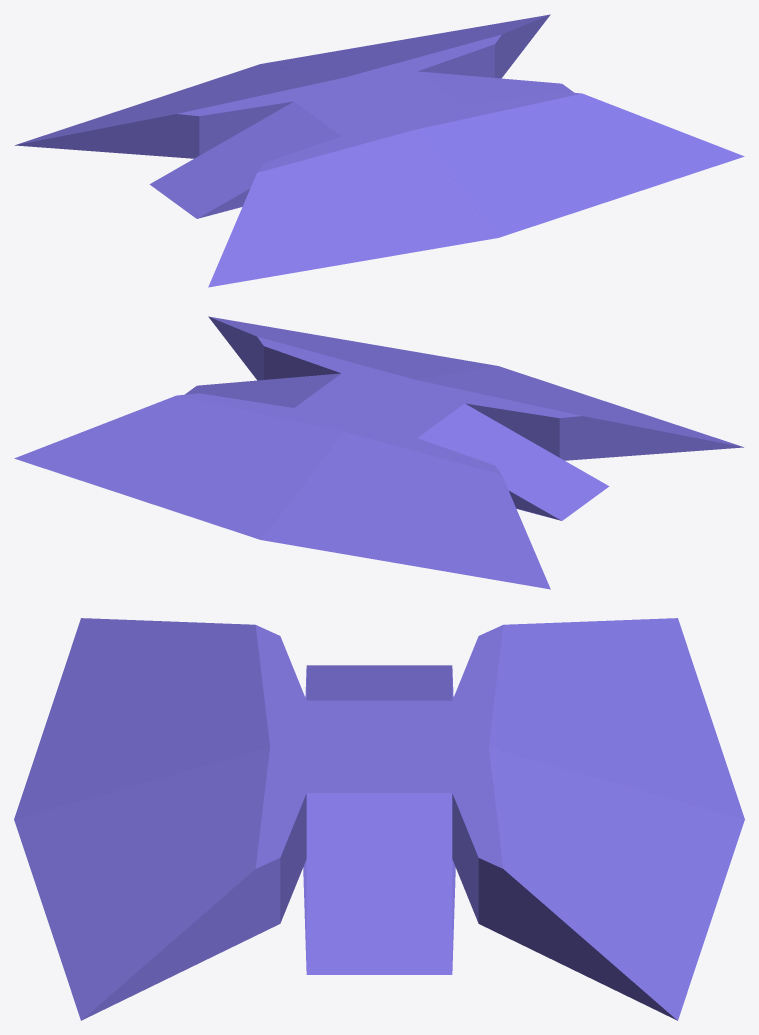
File: stunt ramp 1.fbx
3 views of the same model, one above another, from view 1: azimuth 30°, elevation 25°; view 2: azimuth 150°, elevation 25°; view 3: azimuth 270°, elevation 25° (orthographic). The views are drawn at different scales.
Parts seen in each view (by area): view 1: building_001; view 2: building_001; view 3: building_001.
Part boxes in pixels (x1,y1,x2,y2): building_001: (15, 14, 744, 287); building_001: (14, 316, 743, 589); building_001: (14, 618, 744, 1020).
Bounding box in the file's own units: 2616 × 222 × 2006.
